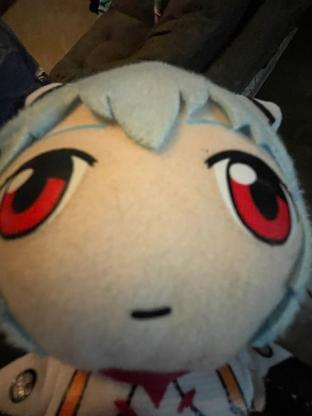rei-plush: (0, 62, 310, 416)
